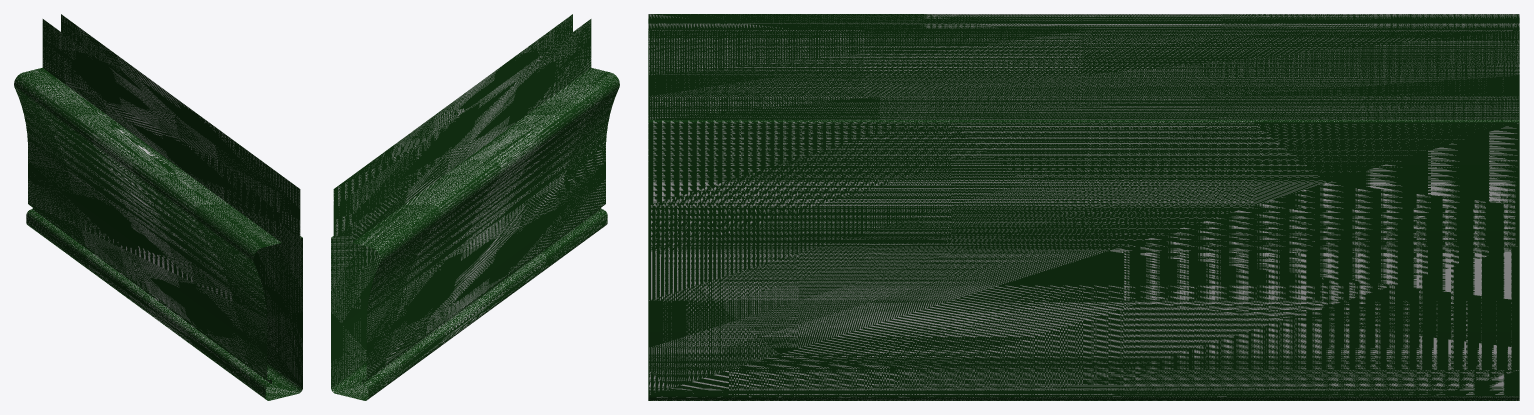
File: original-29.obj
3 renders of one model, left to right at view 1: azimuth 30°, elevation 25°; view 2: azimuth 150°, elevation 25°; view 3: azimuth 270°, elevation 25°, orthographic. The views are drawn at different scales.
Parts seen in each view (by area): view 1: DF_21_BC1/DF_21_BC/mesh24/mesh24-geometry#mesh24-geometry; view 2: DF_21_BC1/DF_21_BC/mesh24/mesh24-geometry#mesh24-geometry; view 3: DF_21_BC1/DF_21_BC/mesh24/mesh24-geometry#mesh24-geometry.
Boxes of the visible parts, left/top/right/bottom form: DF_21_BC1/DF_21_BC/mesh24/mesh24-geometry#mesh24-geometry: left=14, top=14, right=302, bottom=400; DF_21_BC1/DF_21_BC/mesh24/mesh24-geometry#mesh24-geometry: left=331, top=14, right=619, bottom=400; DF_21_BC1/DF_21_BC/mesh24/mesh24-geometry#mesh24-geometry: left=648, top=14, right=1519, bottom=400.
Bounding box in the file's own units: 0.0232 × 0.0912 × 0.1938.
